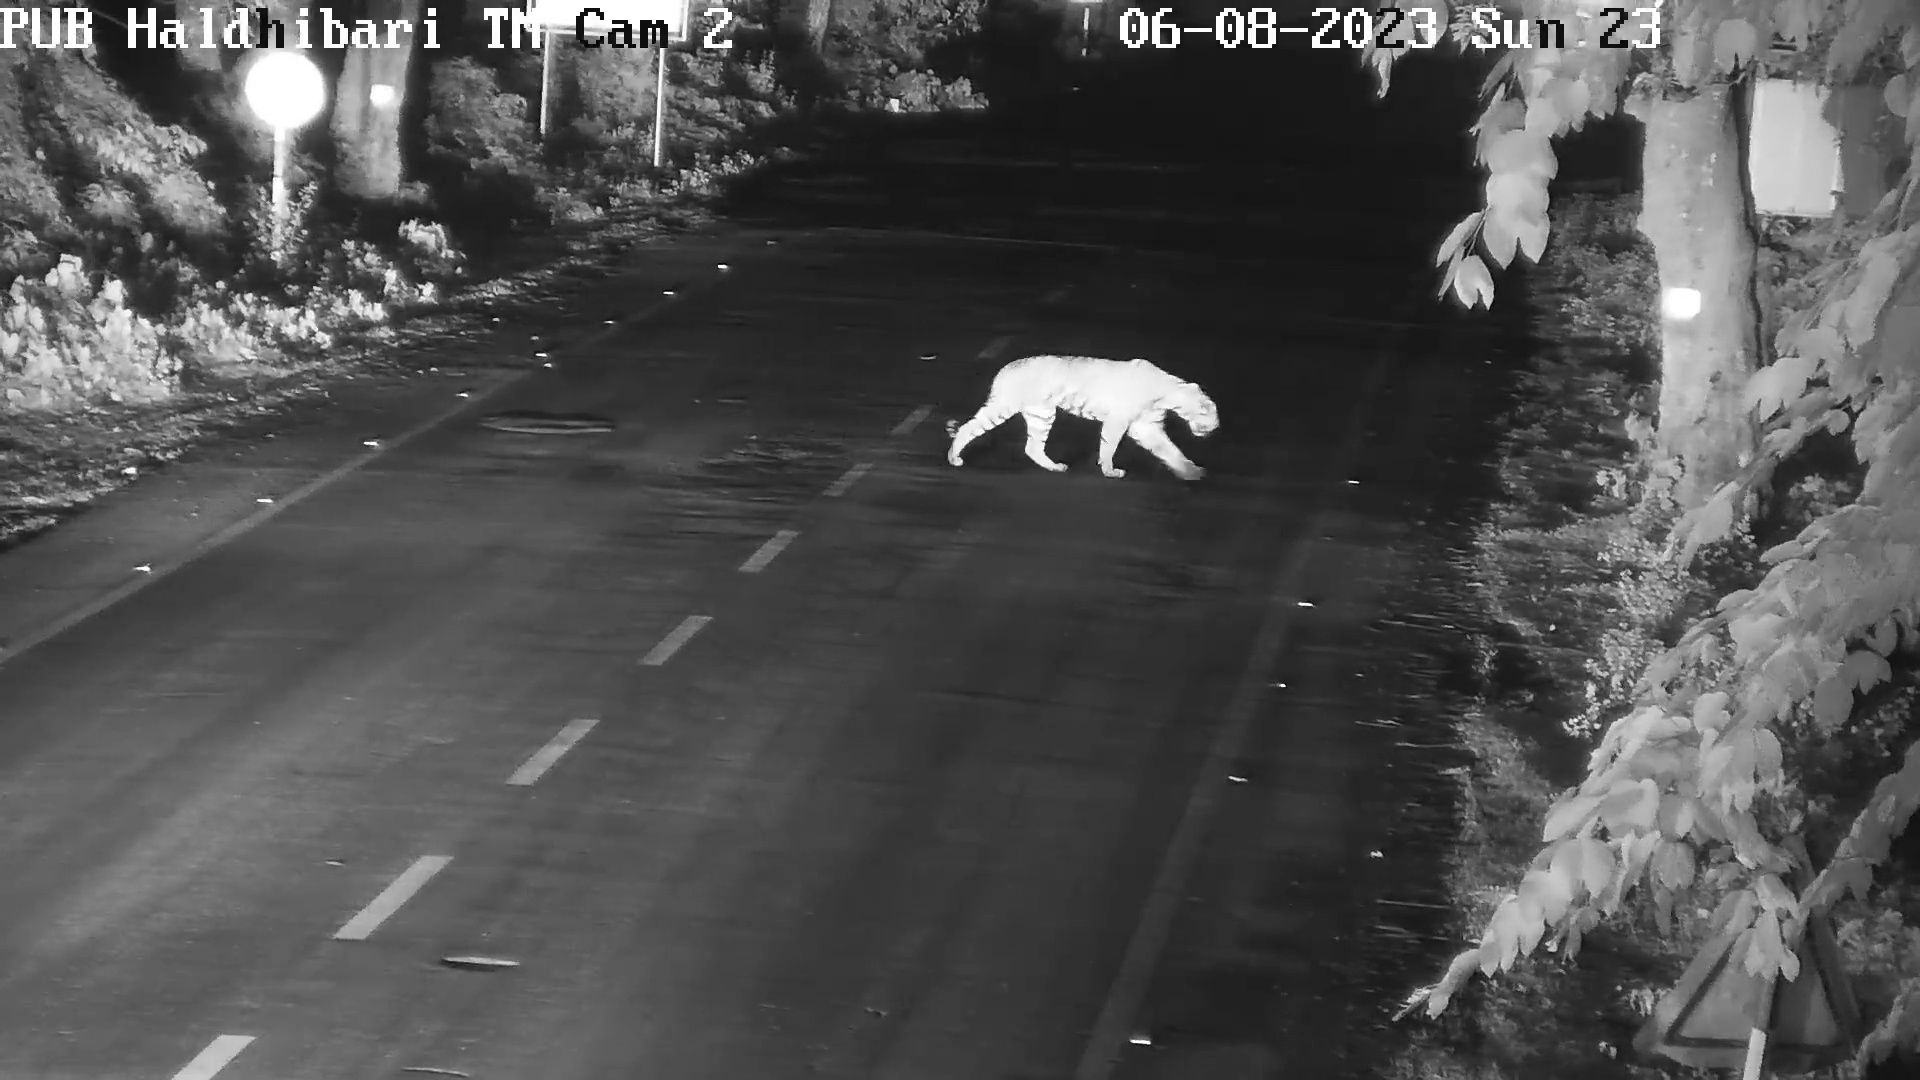tigers: (947, 342, 1221, 485)
